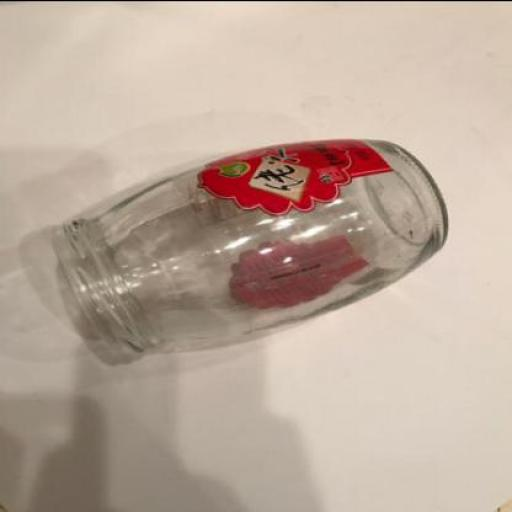glass: (52, 137, 450, 355)
